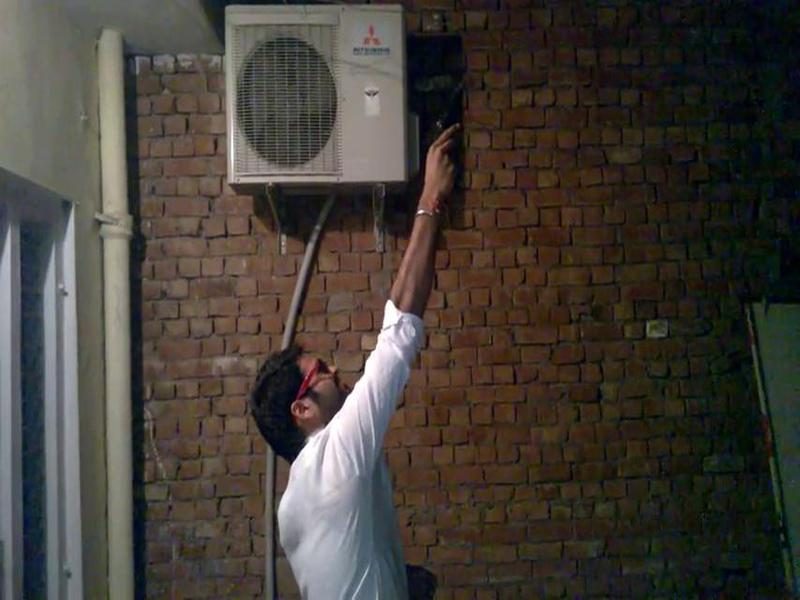Revolver: (419, 69, 481, 179)
